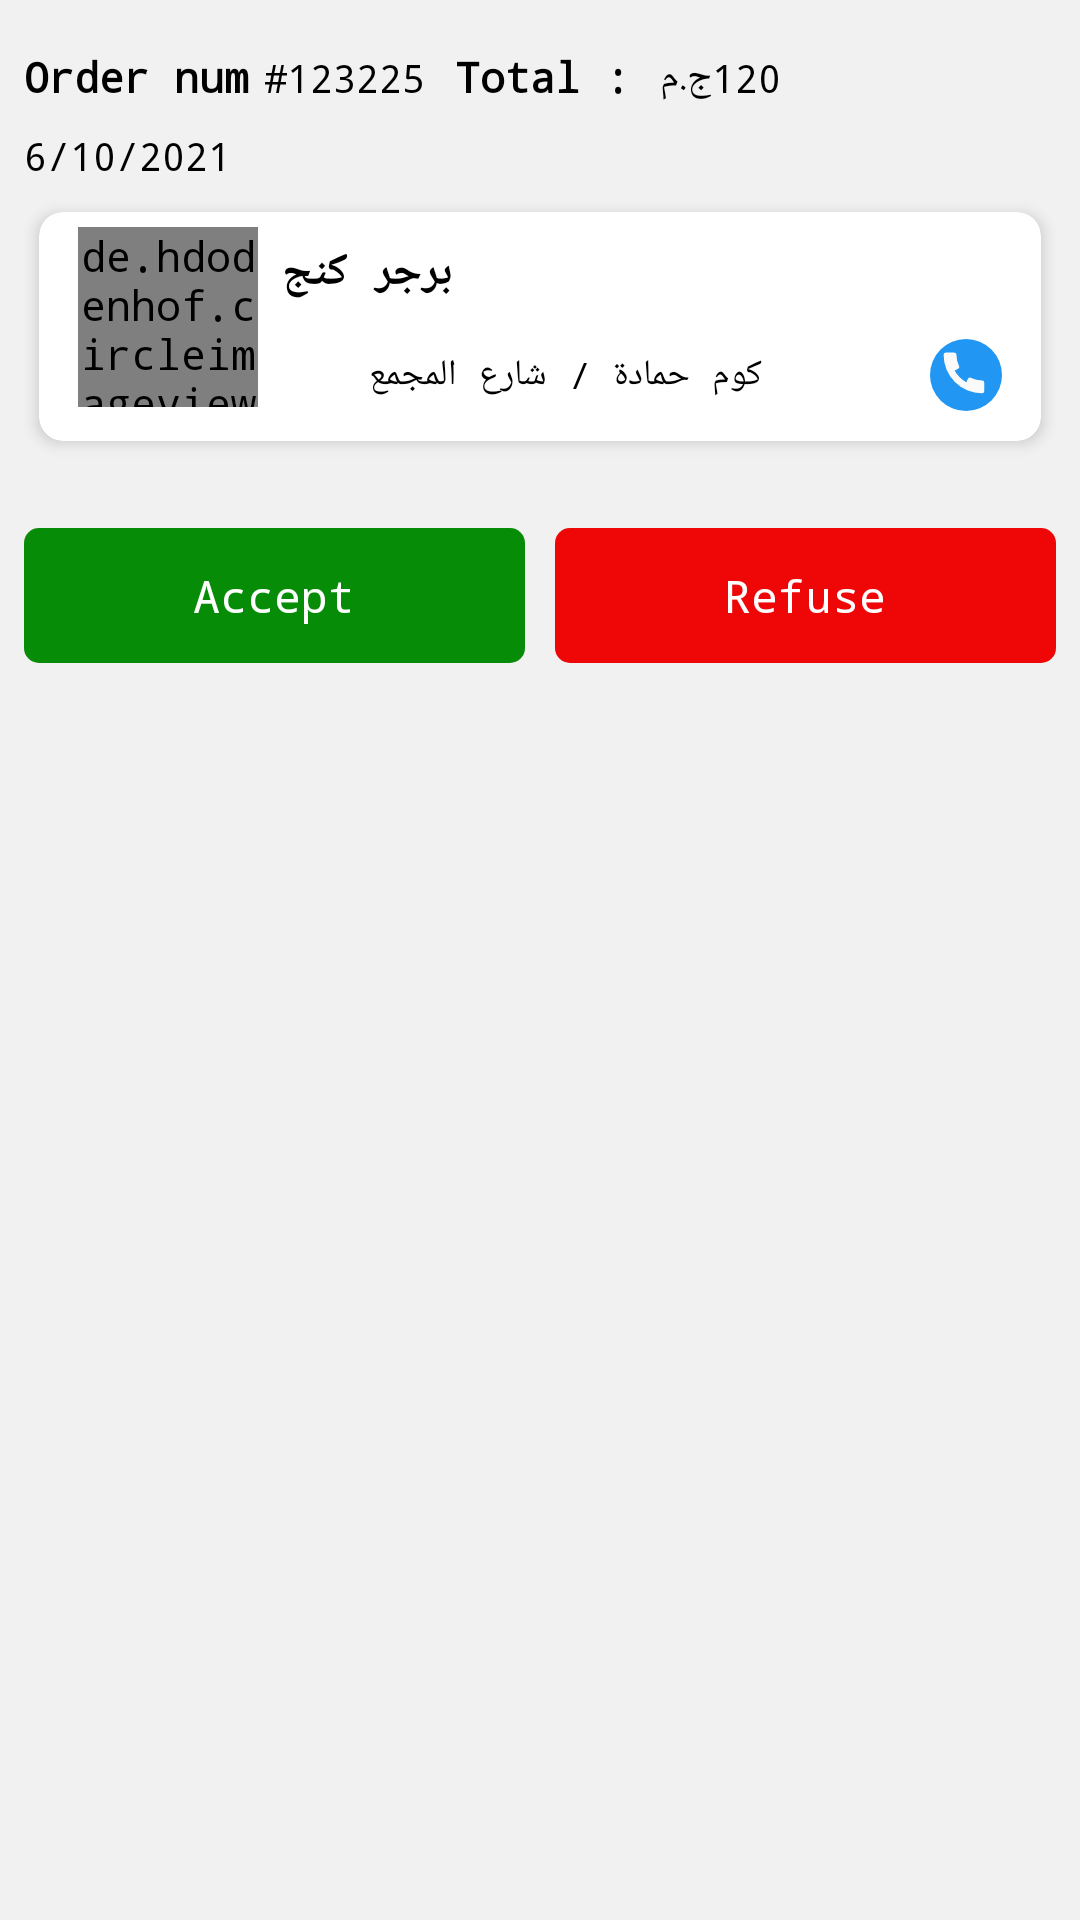

Named icons in this screenshot (1080*1920) and their centers, point (x, y):
call: point (966, 375)
